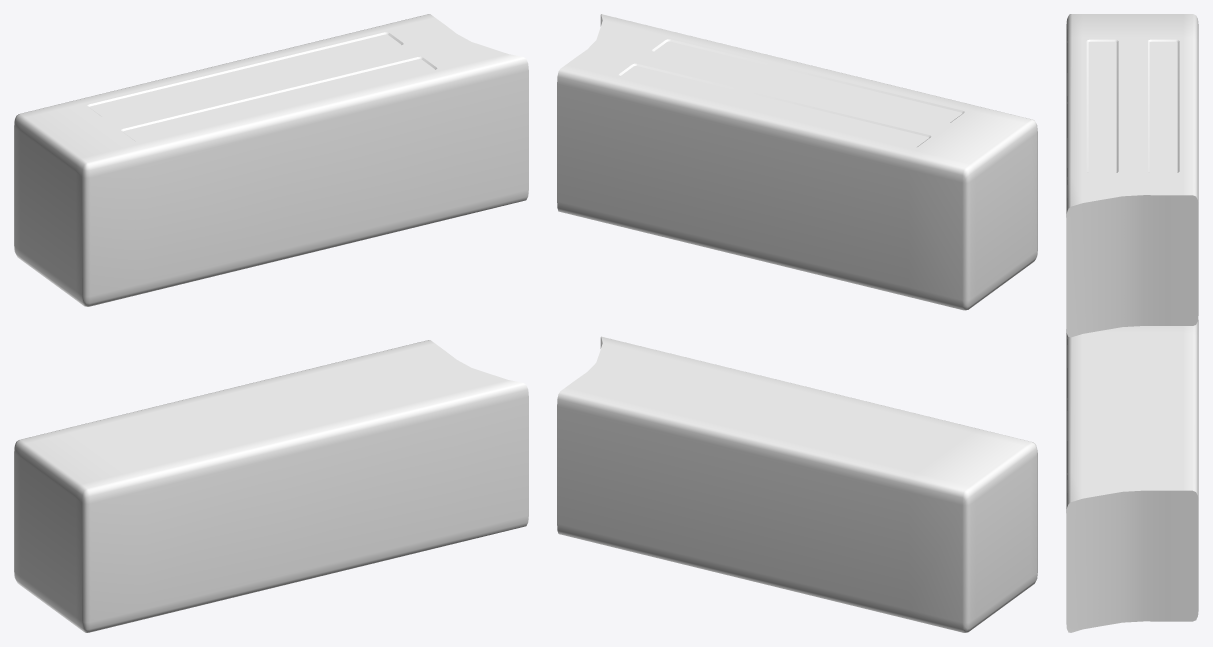
File: fuel_tank.obj
The picture shows the model from 3 angles, left to right: view 1: azimuth 30°, elevation 25°; view 2: azimuth 150°, elevation 25°; view 3: azimuth 270°, elevation 25°; orthographic projection. The views are drawn at different scales.
Visible parts, largest first — view 1: Object006; view 2: Object006; view 3: Object006.
Part boxes in pixels (<box>): Object006: <box>14,14,528,632</box>; Object006: <box>557,14,1037,632</box>; Object006: <box>1066,14,1198,632</box>.
Size of the model in its own units: 2.41 by 2.44 by 0.6855.
1 material, 1 textured.
